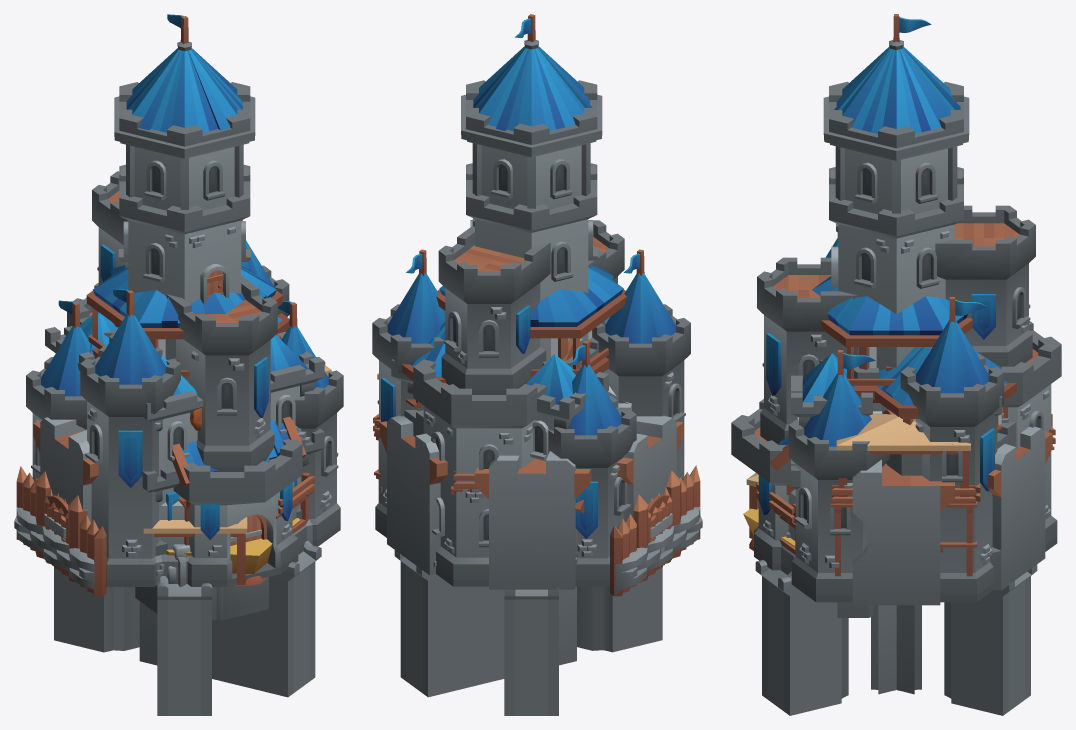
Rendered from hex_buildings.glb.
3 renders of one model, left to right at view 1: azimuth 30°, elevation 25°; view 2: azimuth 150°, elevation 25°; view 3: azimuth 270°, elevation 25°, orthographic. The views are drawn at different scales.
Parts seen in each view (by area): view 1: building_castle_blue, building_bridge_A, building_barracks_blue, building_bridge_B, building_tower_B_top_blue, building_watermill_blue, building_scaffolding, wall_corner_B_inside, fence_stone_straight, fence_wood_straight, fence_wood_straight_gate, building_grain (+1 smaller); view 2: building_castle_blue, building_bridge_B, wall_corner_B_inside, building_bridge_A, wall_corner_B_outside, building_tower_B_top_blue, wall_corner_A_outside, building_barracks_blue, wall_corner_A_inside, fence_stone_straight, fence_wood_straight, fence_wood_straight_gate (+2 smaller); view 3: building_castle_blue, building_bridge_A, building_bridge_B, wall_straight, building_scaffolding, building_tower_B_top_blue, wall_straight_gate, wall_corner_A_inside, building_archeryrange_blue, wall_corner_A_outside, building_barracks_blue, wall_corner_A_gate (+1 smaller).
Part boxes in pixels (x1,y1,x2,y2): building_castle_blue: (26, 14, 343, 586); building_bridge_A: (54, 541, 321, 697); building_barracks_blue: (45, 312, 324, 585); building_bridge_B: (157, 576, 212, 715); building_tower_B_top_blue: (86, 264, 282, 383); building_watermill_blue: (135, 416, 306, 620); building_scaffolding: (143, 365, 331, 584); wall_corner_B_inside: (40, 417, 94, 510); fence_stone_straight: (14, 507, 94, 589); fence_wood_straight: (16, 466, 106, 596); fence_wood_straight_gate: (24, 471, 106, 596); building_grain: (166, 518, 300, 573); building_castle_blue: (372, 14, 690, 586); building_bridge_B: (394, 548, 662, 697); wall_corner_B_inside: (474, 421, 683, 589); building_bridge_A: (504, 586, 558, 715); wall_corner_B_outside: (489, 403, 671, 589); building_tower_B_top_blue: (436, 265, 626, 375); wall_corner_A_outside: (387, 418, 676, 574); building_barracks_blue: (391, 317, 609, 461); wall_corner_A_inside: (379, 421, 681, 575); fence_stone_straight: (614, 507, 702, 595); fence_wood_straight: (610, 465, 700, 596); fence_wood_straight_gate: (610, 470, 700, 596); building_castle_blue: (731, 14, 1061, 602); building_bridge_A: (755, 559, 896, 715); building_bridge_B: (896, 564, 1037, 715); wall_straight: (852, 459, 954, 591); building_scaffolding: (746, 413, 1055, 576); building_tower_B_top_blue: (812, 276, 973, 402); wall_straight_gate: (852, 403, 954, 605); wall_corner_A_inside: (988, 426, 1045, 590); building_archeryrange_blue: (868, 346, 1017, 475); wall_corner_A_outside: (1001, 431, 1052, 575); building_barracks_blue: (791, 353, 1001, 557); wall_corner_A_gate: (990, 431, 1052, 590).
Size of the model in its own units: 2.1 by 4.98 by 2.26.
Materials: 1 (1 with a texture image).
